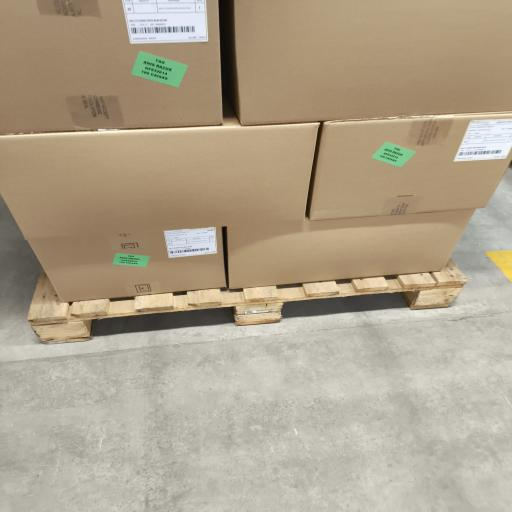pallet: (29, 261, 466, 343)
